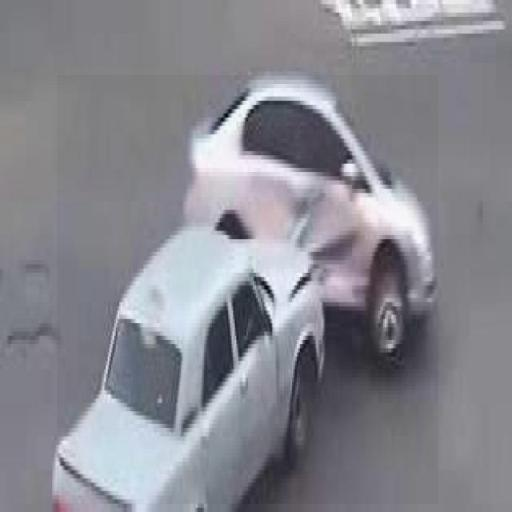小汽车撞小汽车: (57, 75, 438, 504)
